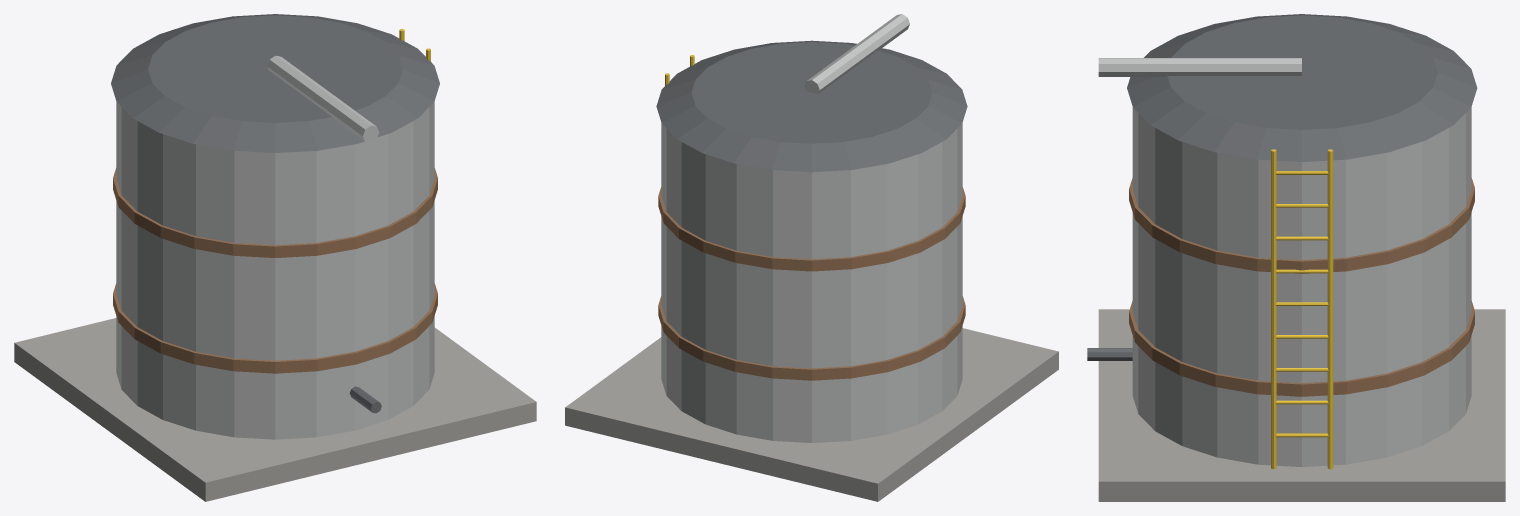
Rendered from a_rain_tank.glb.
3 renders of one model, left to right at view 1: azimuth 30°, elevation 25°; view 2: azimuth 150°, elevation 25°; view 3: azimuth 270°, elevation 25°, orthographic. The views are drawn at different scales.
Parts seen in each view (by area): view 1: tank, lid.001, pad, ring.002, ring.001, inlet; view 2: tank, lid.001, pad, ring.001, ring.002, inlet; view 3: tank, lid.001, pad, ladder, ring.001, ring.002, inlet, tap.
Boxes of the visible parts, x1,y1,x2,y2 form: tank: (116, 102, 434, 439); lid.001: (111, 14, 439, 152); pad: (14, 318, 536, 501); ring.002: (113, 168, 437, 257); ring.001: (113, 283, 437, 373); inlet: (267, 55, 379, 142); tank: (661, 123, 962, 442); lid.001: (656, 40, 967, 172); pad: (565, 328, 1058, 501); ring.001: (658, 296, 965, 380); ring.002: (658, 187, 965, 271); inlet: (804, 14, 909, 94); tank: (1132, 107, 1471, 466); lid.001: (1127, 14, 1477, 161); pad: (1098, 309, 1505, 501); ladder: (1271, 149, 1333, 469); ring.001: (1129, 301, 1474, 396); ring.002: (1129, 178, 1474, 273); inlet: (1098, 58, 1301, 76); tap: (1087, 348, 1132, 360).
Size of the model in its own units: 3.6 by 3.49 by 3.7.
